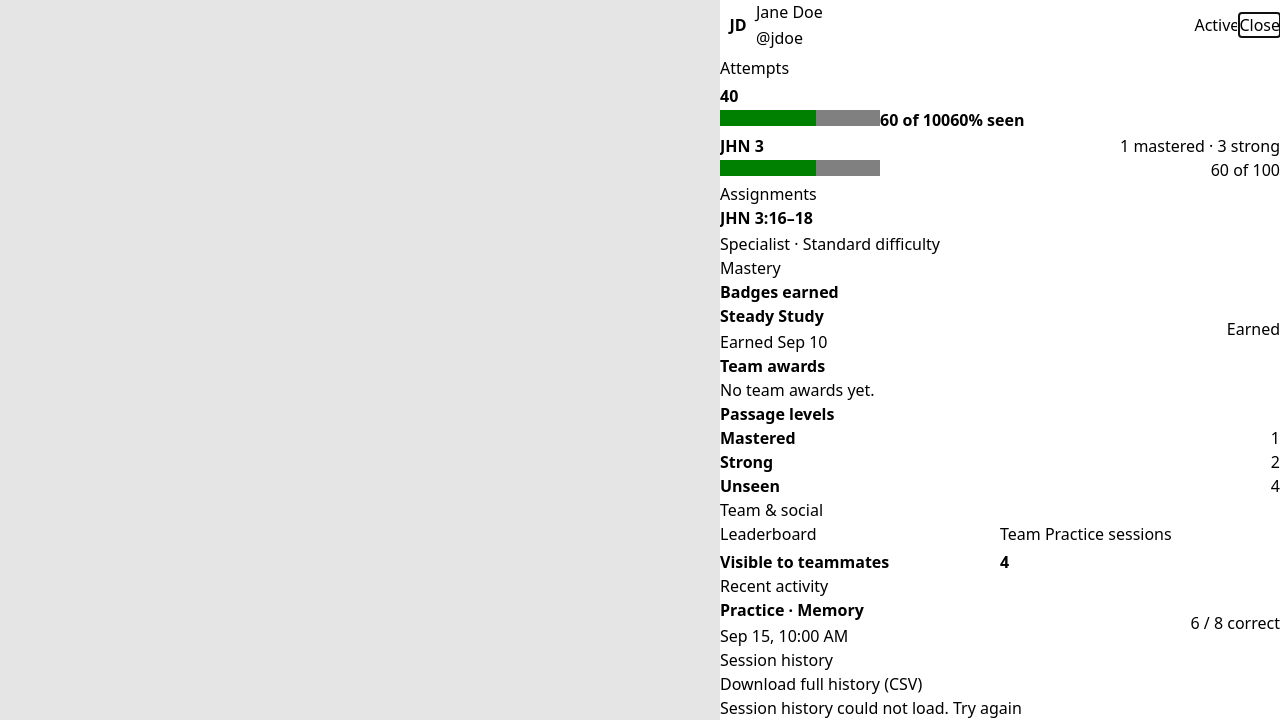
Test: re-fetches the first page when session history retry is activated after a failure
(page scrolled)
Expected: the text "Session history could not load. Try again" is shown, [720, 696, 1022, 719]
Click the button "Try again" at (987, 708), box [953, 696, 1022, 719]
(page scrolled)
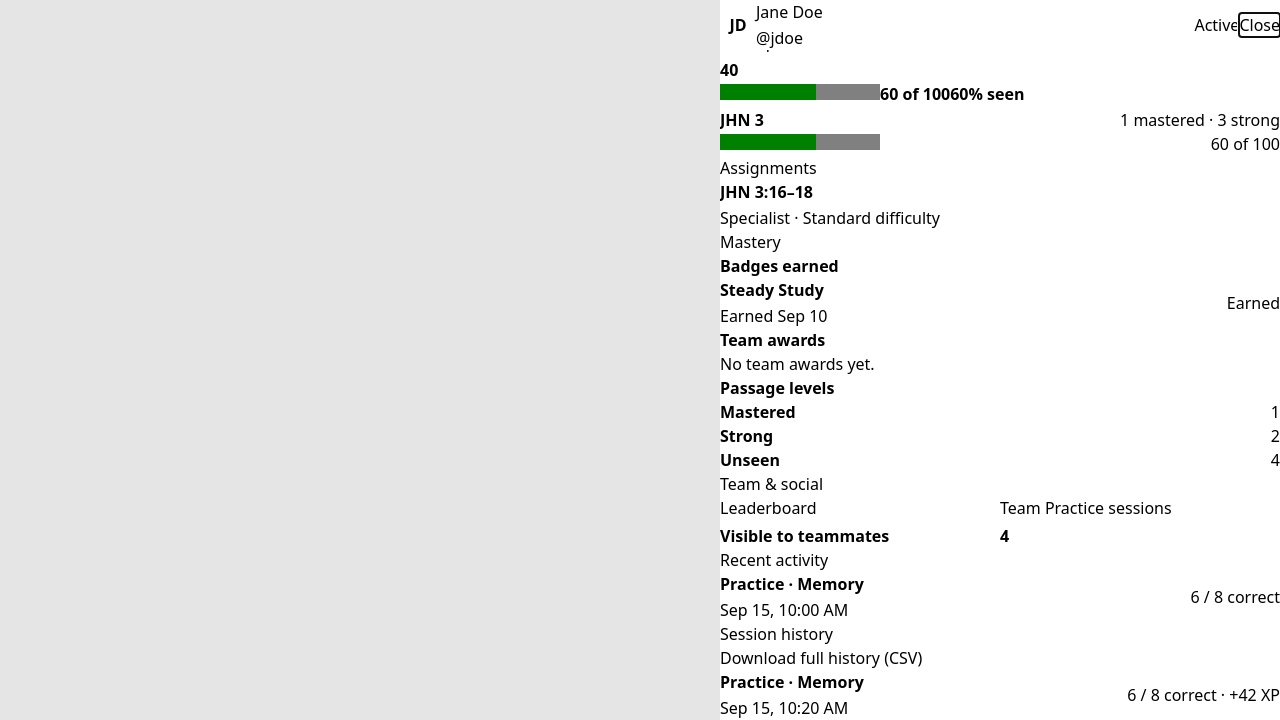
Expected: the text "6 / 8 correct · +42 XP" is shown, [1127, 683, 1279, 707]
